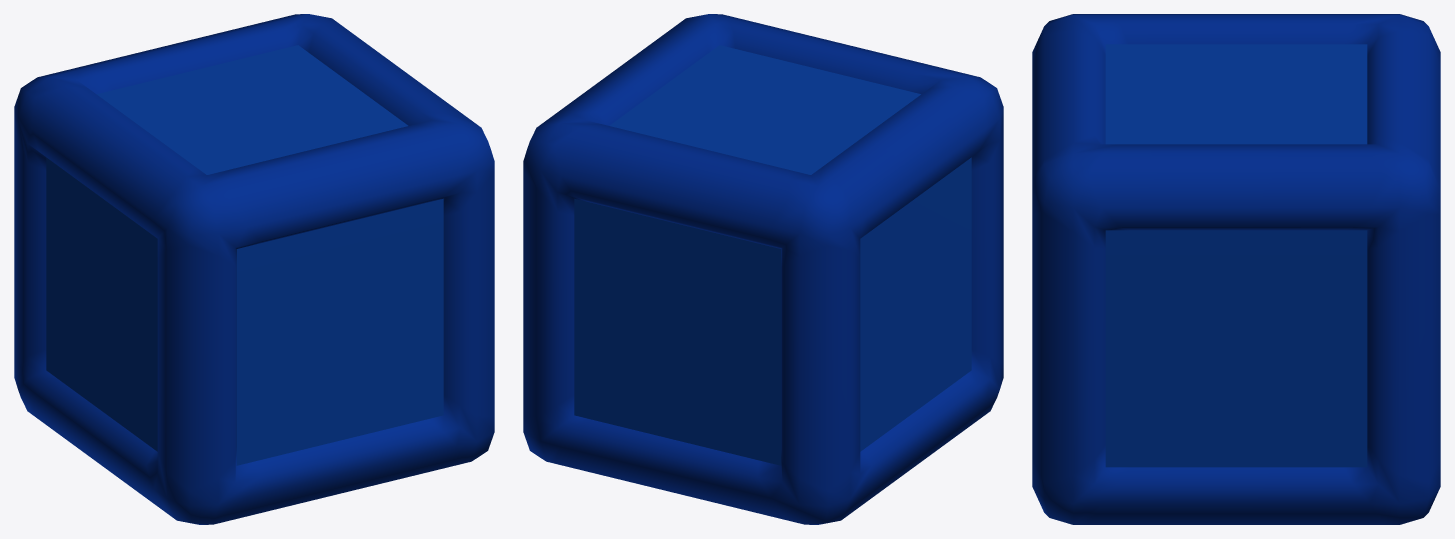
File: Block_Blue.fbx
3 renders of one model, left to right at view 1: azimuth 30°, elevation 25°; view 2: azimuth 150°, elevation 25°; view 3: azimuth 270°, elevation 25°, orthographic. The views are drawn at different scales.
Visible parts, largest first — view 1: Block_Blue; view 2: Block_Blue; view 3: Block_Blue.
Boxes of the visible parts, box(x1,y1,x2,y2) form: Block_Blue: box(14, 14, 494, 524); Block_Blue: box(523, 14, 1003, 524); Block_Blue: box(1032, 14, 1440, 524).
Size of the model in its own units: 100 by 100 by 100.
